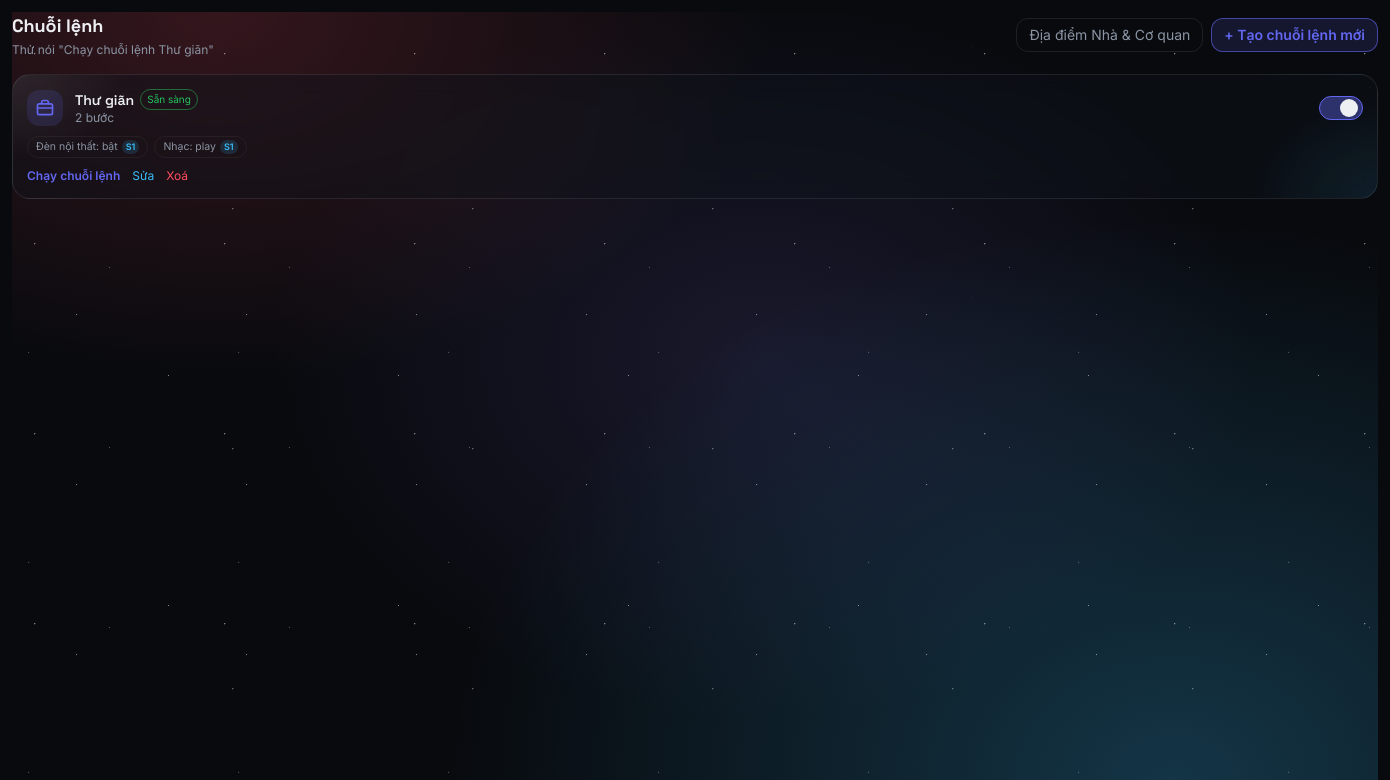
Test: RoutinesView — chạy Routine, panel tiến độ (#292) › lỗi ROUTINE_NEEDS_SETUP hiện message, không chuyển sang panel chạy
Step 1. Click the button "Chạy chuỗi lệnh" → point(74, 176), box [27,168,120,184]
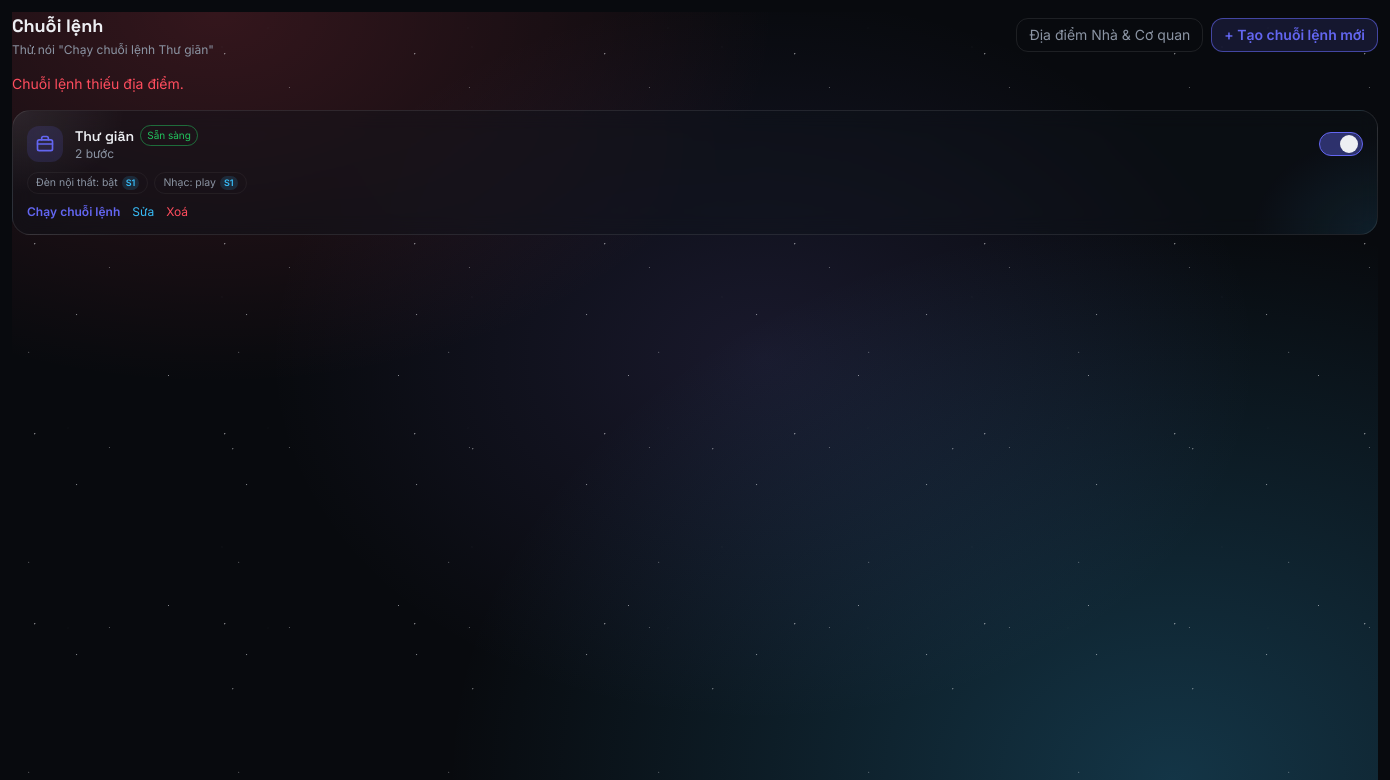
Expected: the text "Thư giãn" is shown, [75,126,134,146]
Result: the text "Chuỗi lệnh thiếu địa điểm." is shown at [12,75,184,92]
